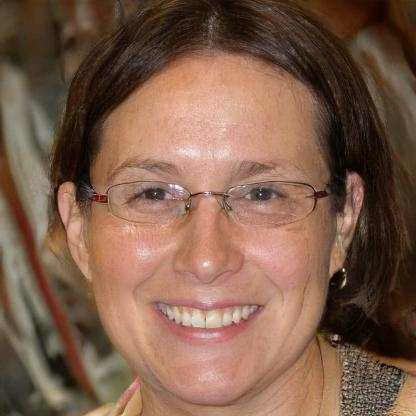glasses: (91, 178, 332, 228)
